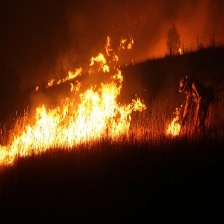fire: (1, 82, 151, 167), (39, 31, 133, 88), (166, 110, 185, 141)
smoke: (1, 1, 224, 49)
